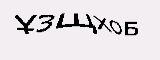В: (102, 14, 131, 45)
Л: (78, 16, 106, 48), (53, 15, 80, 48)
Т: (31, 18, 43, 46)
Э: (40, 17, 54, 44)
